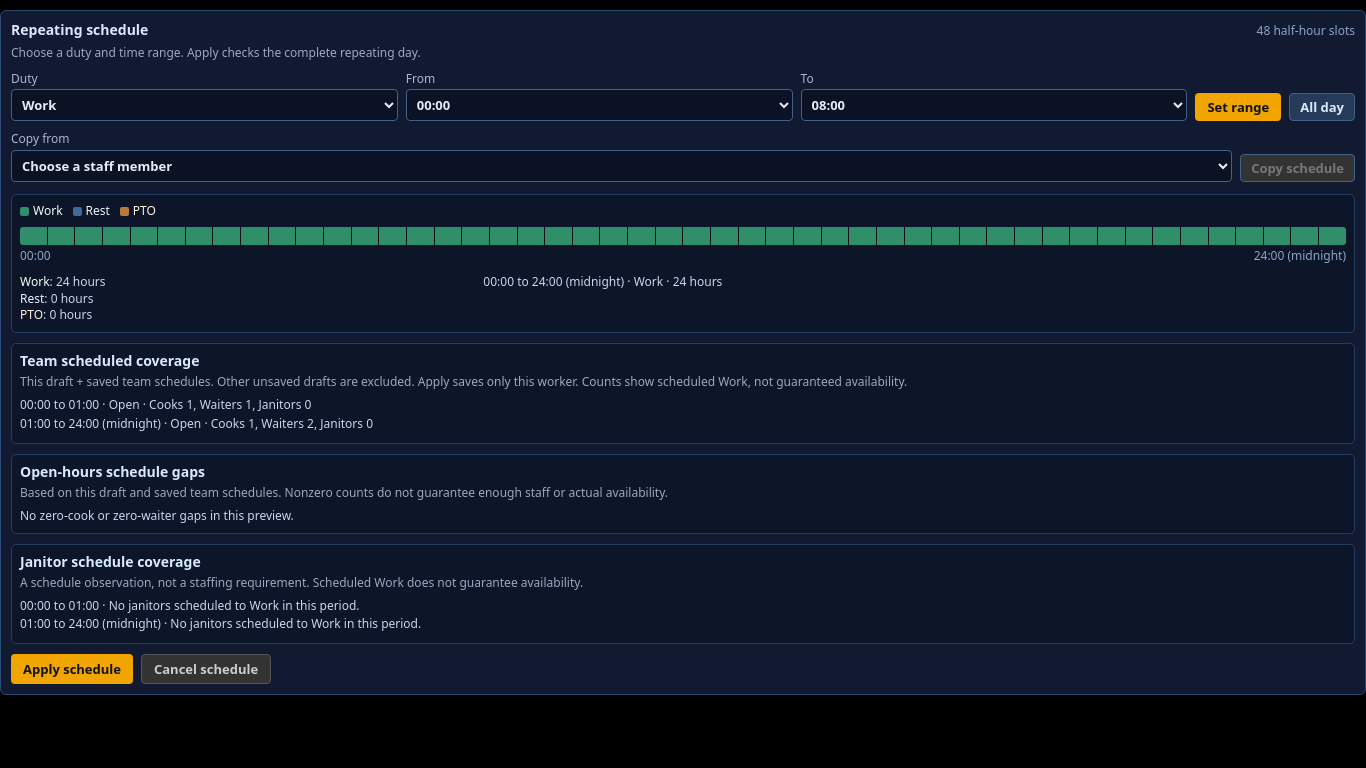
Scenario: StaffScheduleEditor › labels colliding same-name teammates distinctly and copies each saved schedule
Step 1. Select "Alex (waiter, ID s2)" in the dropdown labelled "Copy from" → (622, 166), box [11,150,1232,182]
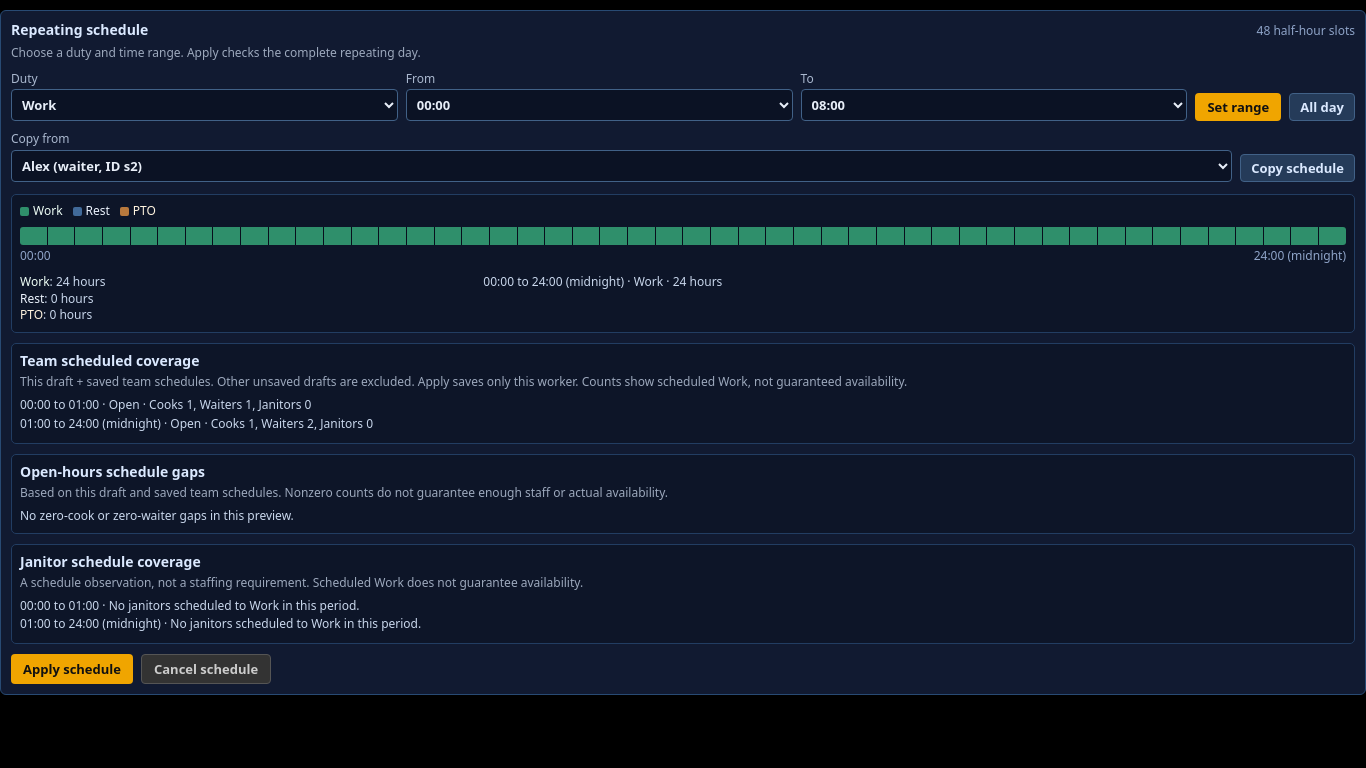
Step 2. Click the button "Copy schedule" → (1298, 168), box [1240,154,1355,182]
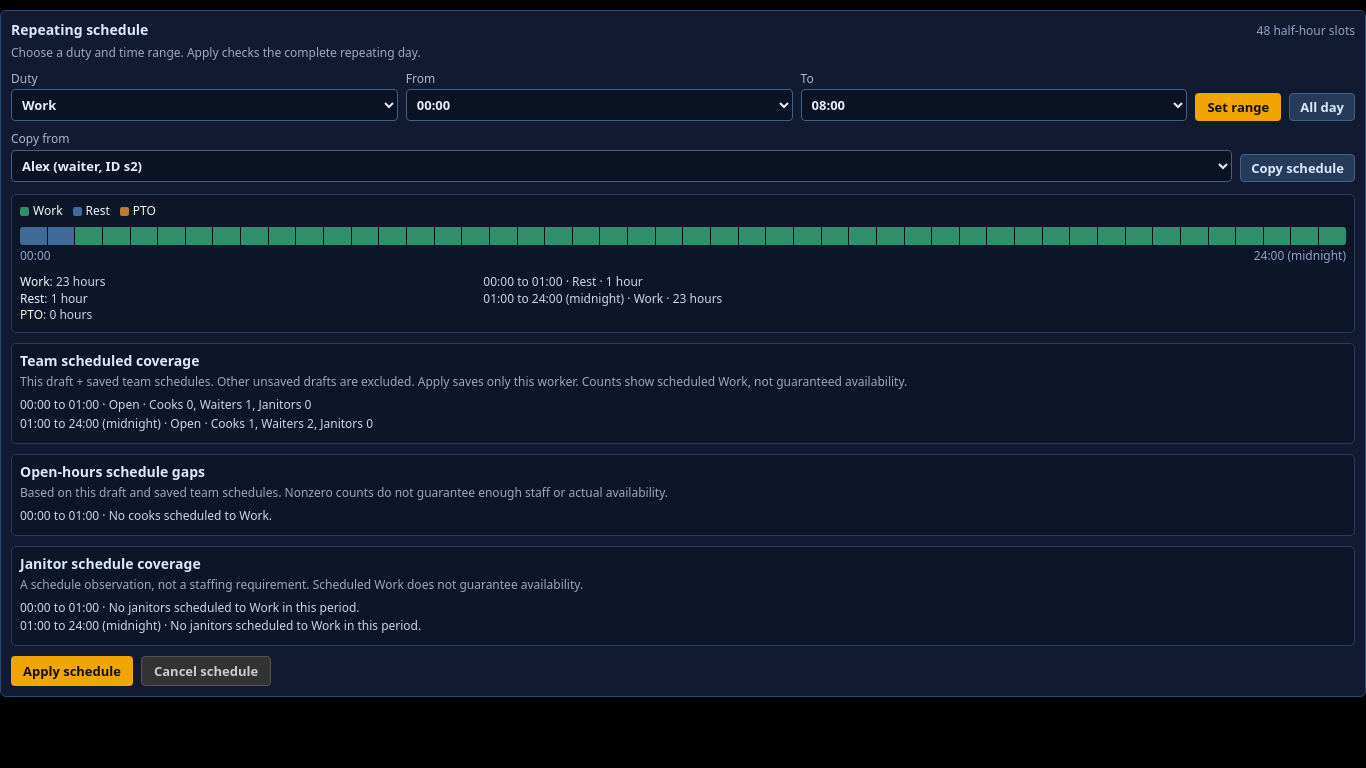
Check: the list named "Schedule totals" reads "Work: 23 hours Rest: 1 hour PTO: 0 hours", box [20,273,106,323]
Step 3. Select "Alex (waiter, ID s3)" in the dropdown labelled "Copy from" → (622, 166), box [11,150,1232,182]
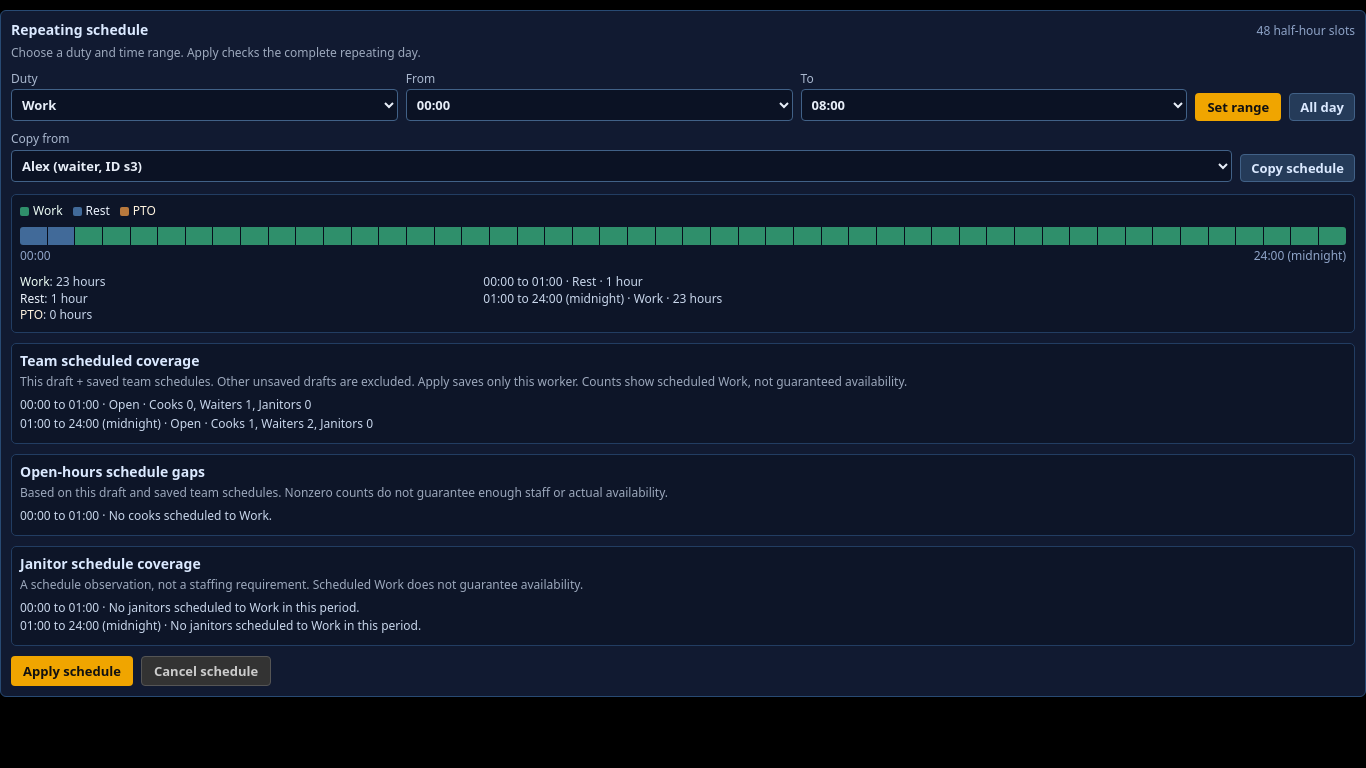
Step 4. Click the button "Copy schedule" → (1298, 168), box [1240,154,1355,182]
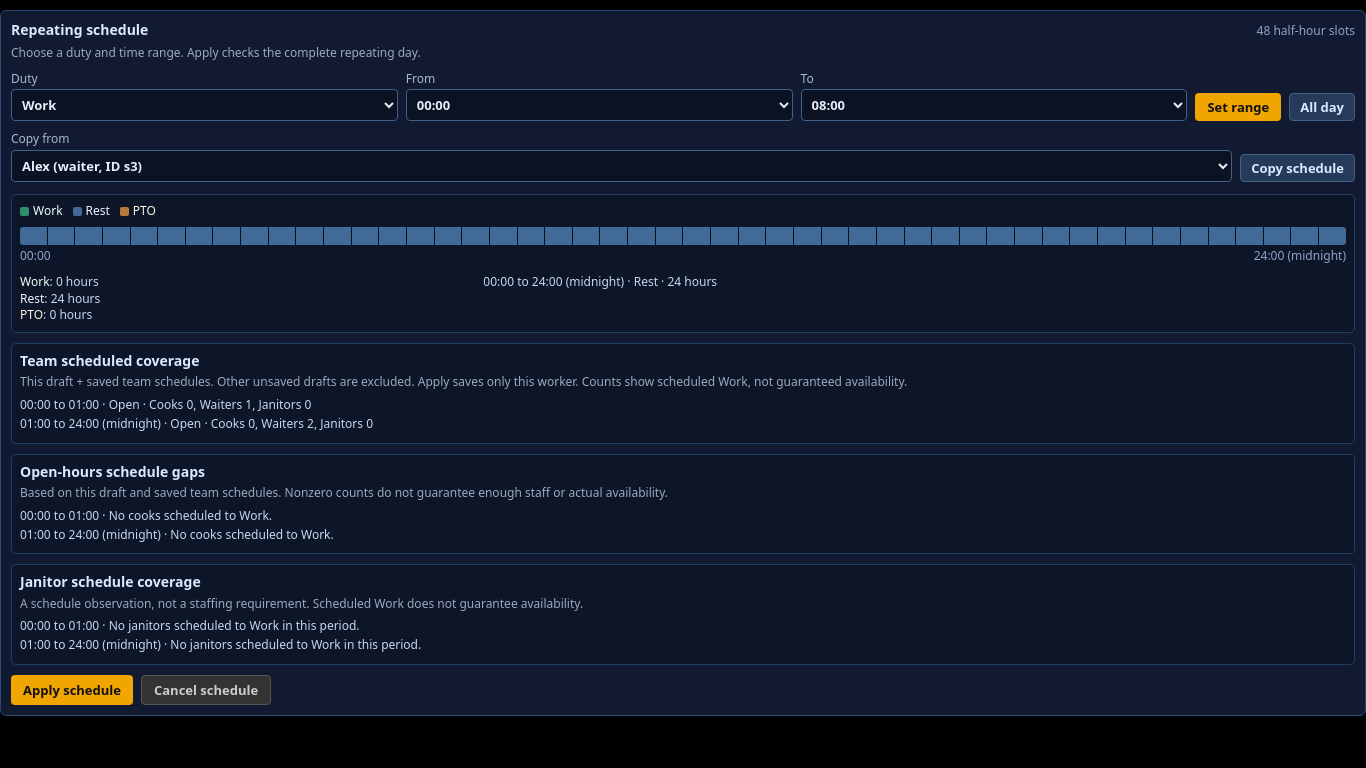
Check: the list named "Schedule totals" reads "Work: 0 hours Rest: 24 hours PTO: 0 hours", box [20,273,100,323]
